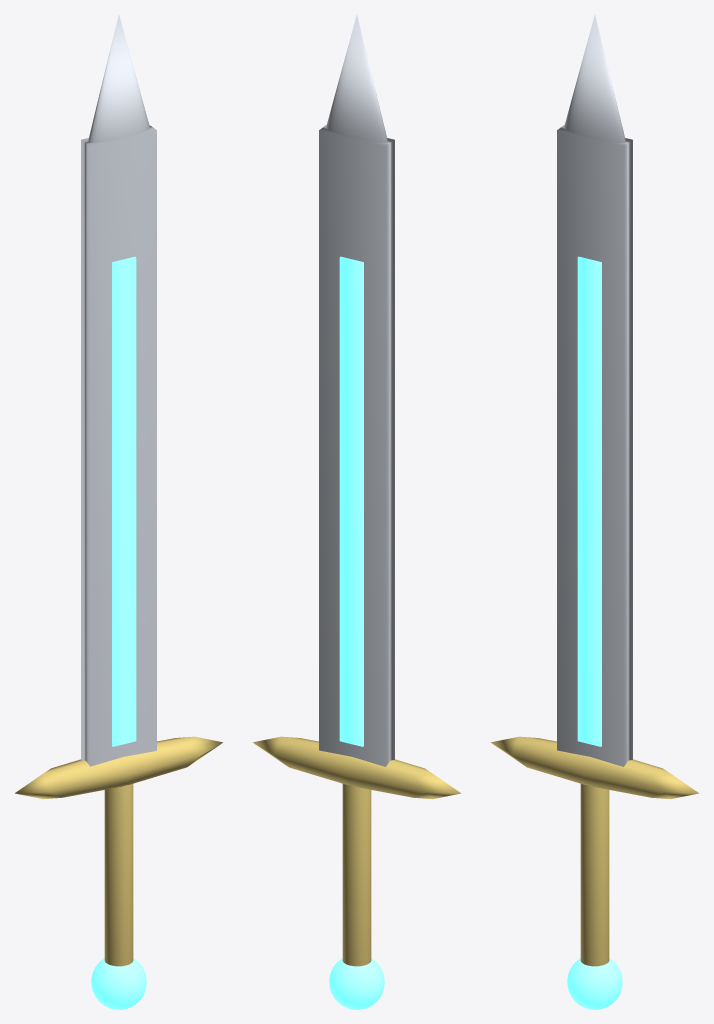
File: sovereign-greatsword.glb
3 views of the same model, side by side, from view 1: azimuth 30°, elevation 25°; view 2: azimuth 150°, elevation 25°; view 3: azimuth 330°, elevation 25° (orthographic).
Visible parts, largest first — view 1: BladeCore, BladeFullerGlow, Crossguard, Grip, BladeTip, Pommel; view 2: BladeCore, BladeFullerGlow, Crossguard, Grip, BladeTip, Pommel; view 3: BladeCore, BladeFullerGlow, Crossguard, Grip, BladeTip, Pommel.
Boxes of the visible parts, box(x1,y1,x2,y2) form: BladeCore: box(81, 125, 156, 766); BladeFullerGlow: box(112, 256, 136, 746); Crossguard: box(15, 736, 222, 799); Grip: box(104, 784, 133, 966); BladeTip: box(88, 15, 149, 142); Pommel: box(91, 958, 146, 1009); BladeCore: box(319, 125, 394, 766); BladeFullerGlow: box(339, 256, 363, 746); Crossguard: box(253, 736, 460, 799); Grip: box(342, 784, 371, 966); BladeTip: box(326, 15, 387, 142); Pommel: box(329, 958, 384, 1009); BladeCore: box(557, 125, 632, 766); BladeFullerGlow: box(577, 256, 601, 746); Crossguard: box(491, 736, 698, 799); Grip: box(580, 784, 609, 966); BladeTip: box(564, 15, 625, 142); Pommel: box(567, 958, 622, 1009).
Size of the model in its own units: 0.4701 by 2.13 by 0.1081.
